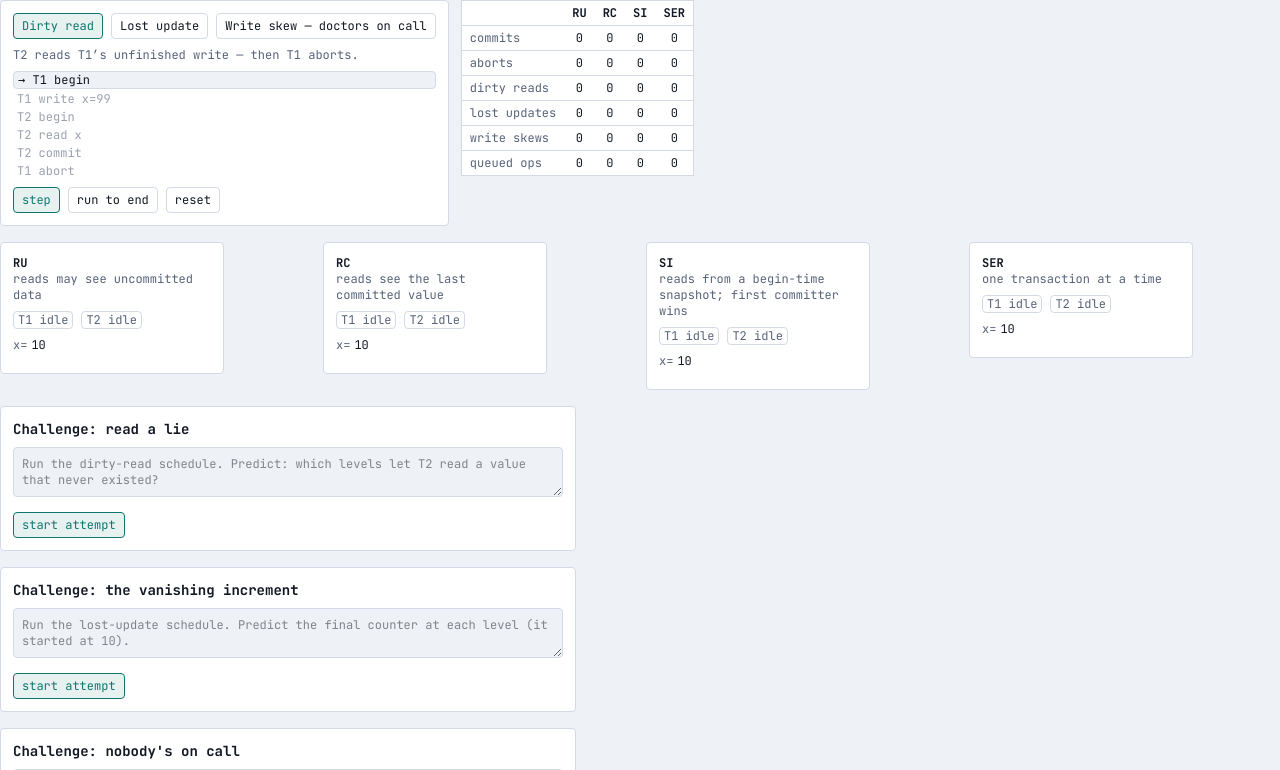
run-to-end on the dirty-read preset: RU flags it, RC does not
Click the button "run to end" at (113, 200), box [68,187,158,213]
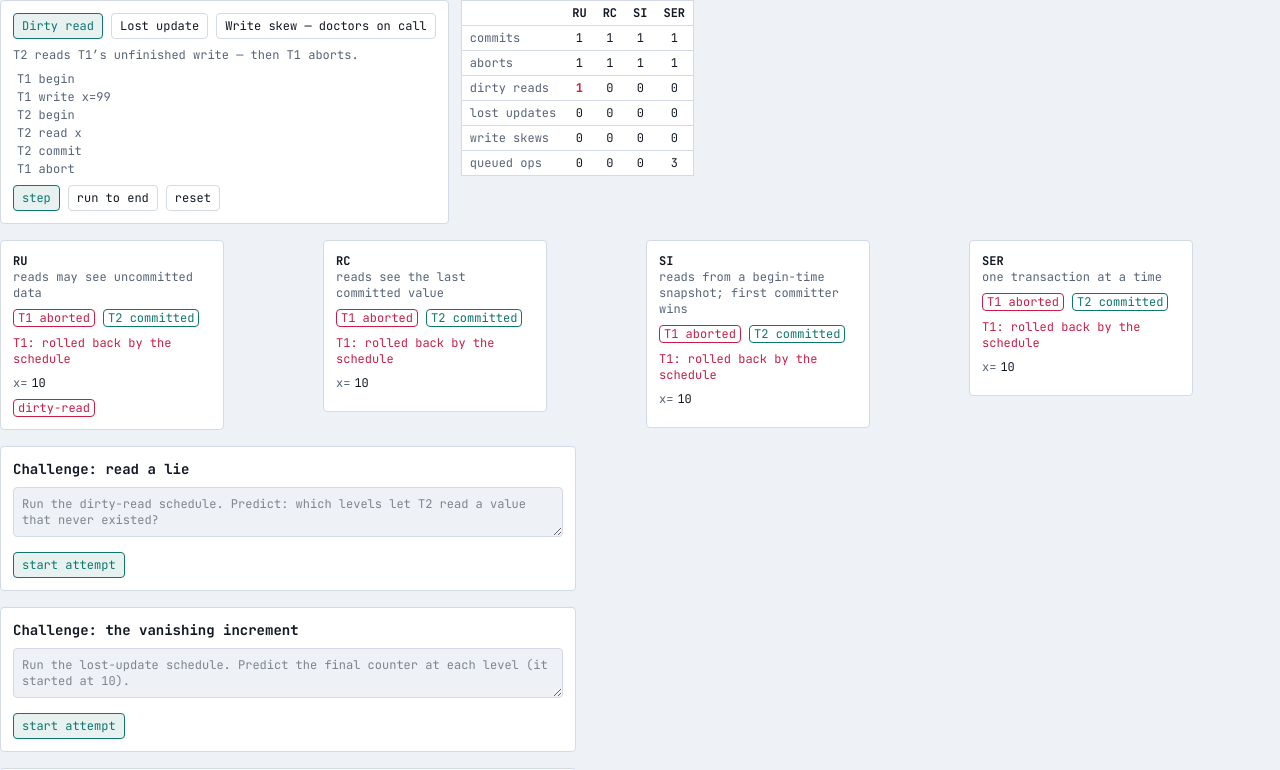
Expected: the 1st cell "0" is shown, [595,76,625,100]
Now the cell "1" next to "dirty reads" is shown, box [576,80,583,96]
